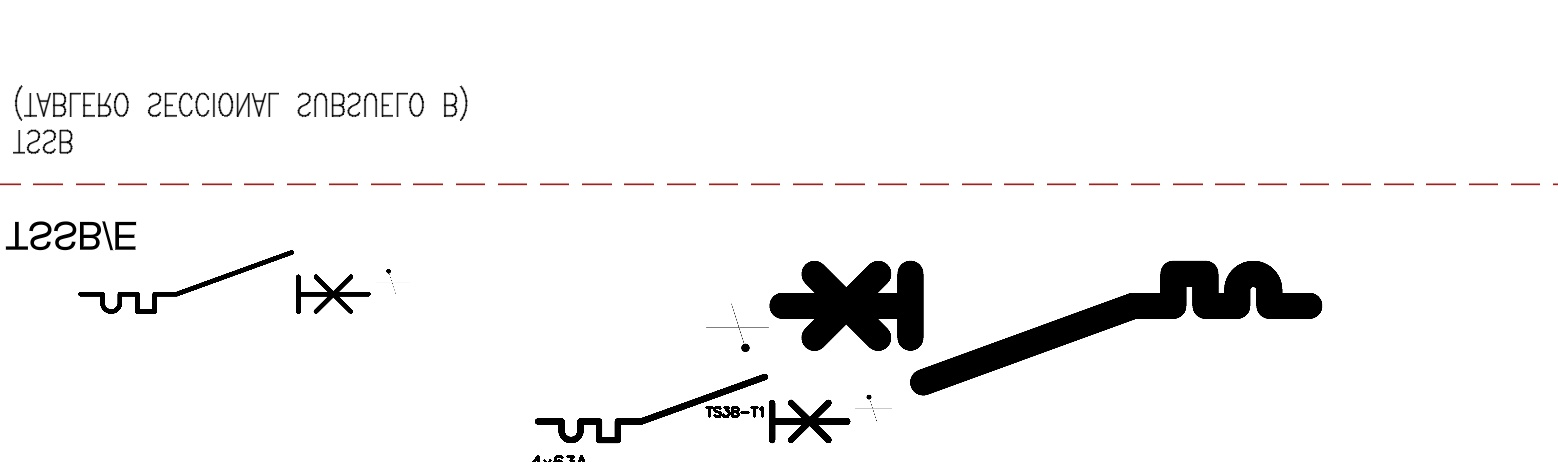interruptor_termomagnetico: (768, 260, 1322, 395), (530, 369, 855, 448), (73, 245, 376, 319)
